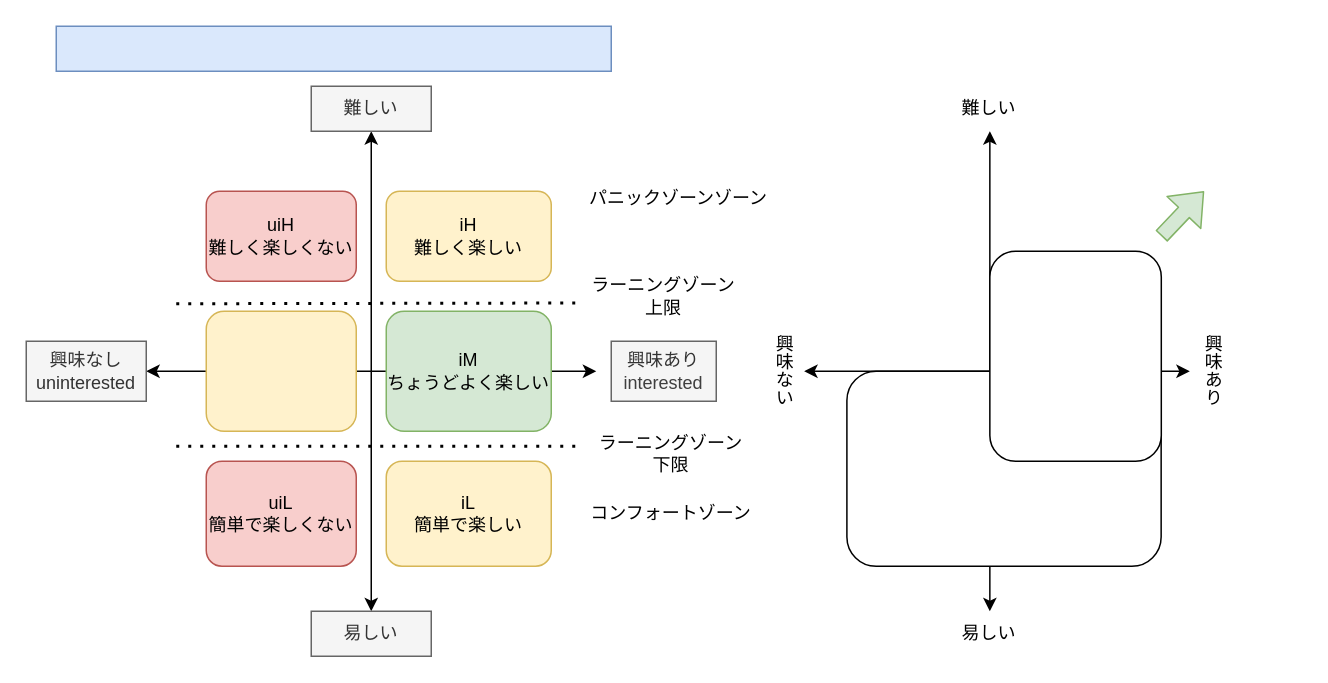
Some shapes in this 1328 by 683 pixel diagram are drawn without their labels. The shapes that lost their labels are listed below. From the top down, each one's centre as x and y in pixels, then its label:
At pixel 333 48: "コンパス 難易度と興味".
At pixel 280 370: "uiM ちょうどよく楽しくない".
At pixel 1074 355: "理解できる 興味の範囲".
At pixel 1003 468: "知の範囲".
